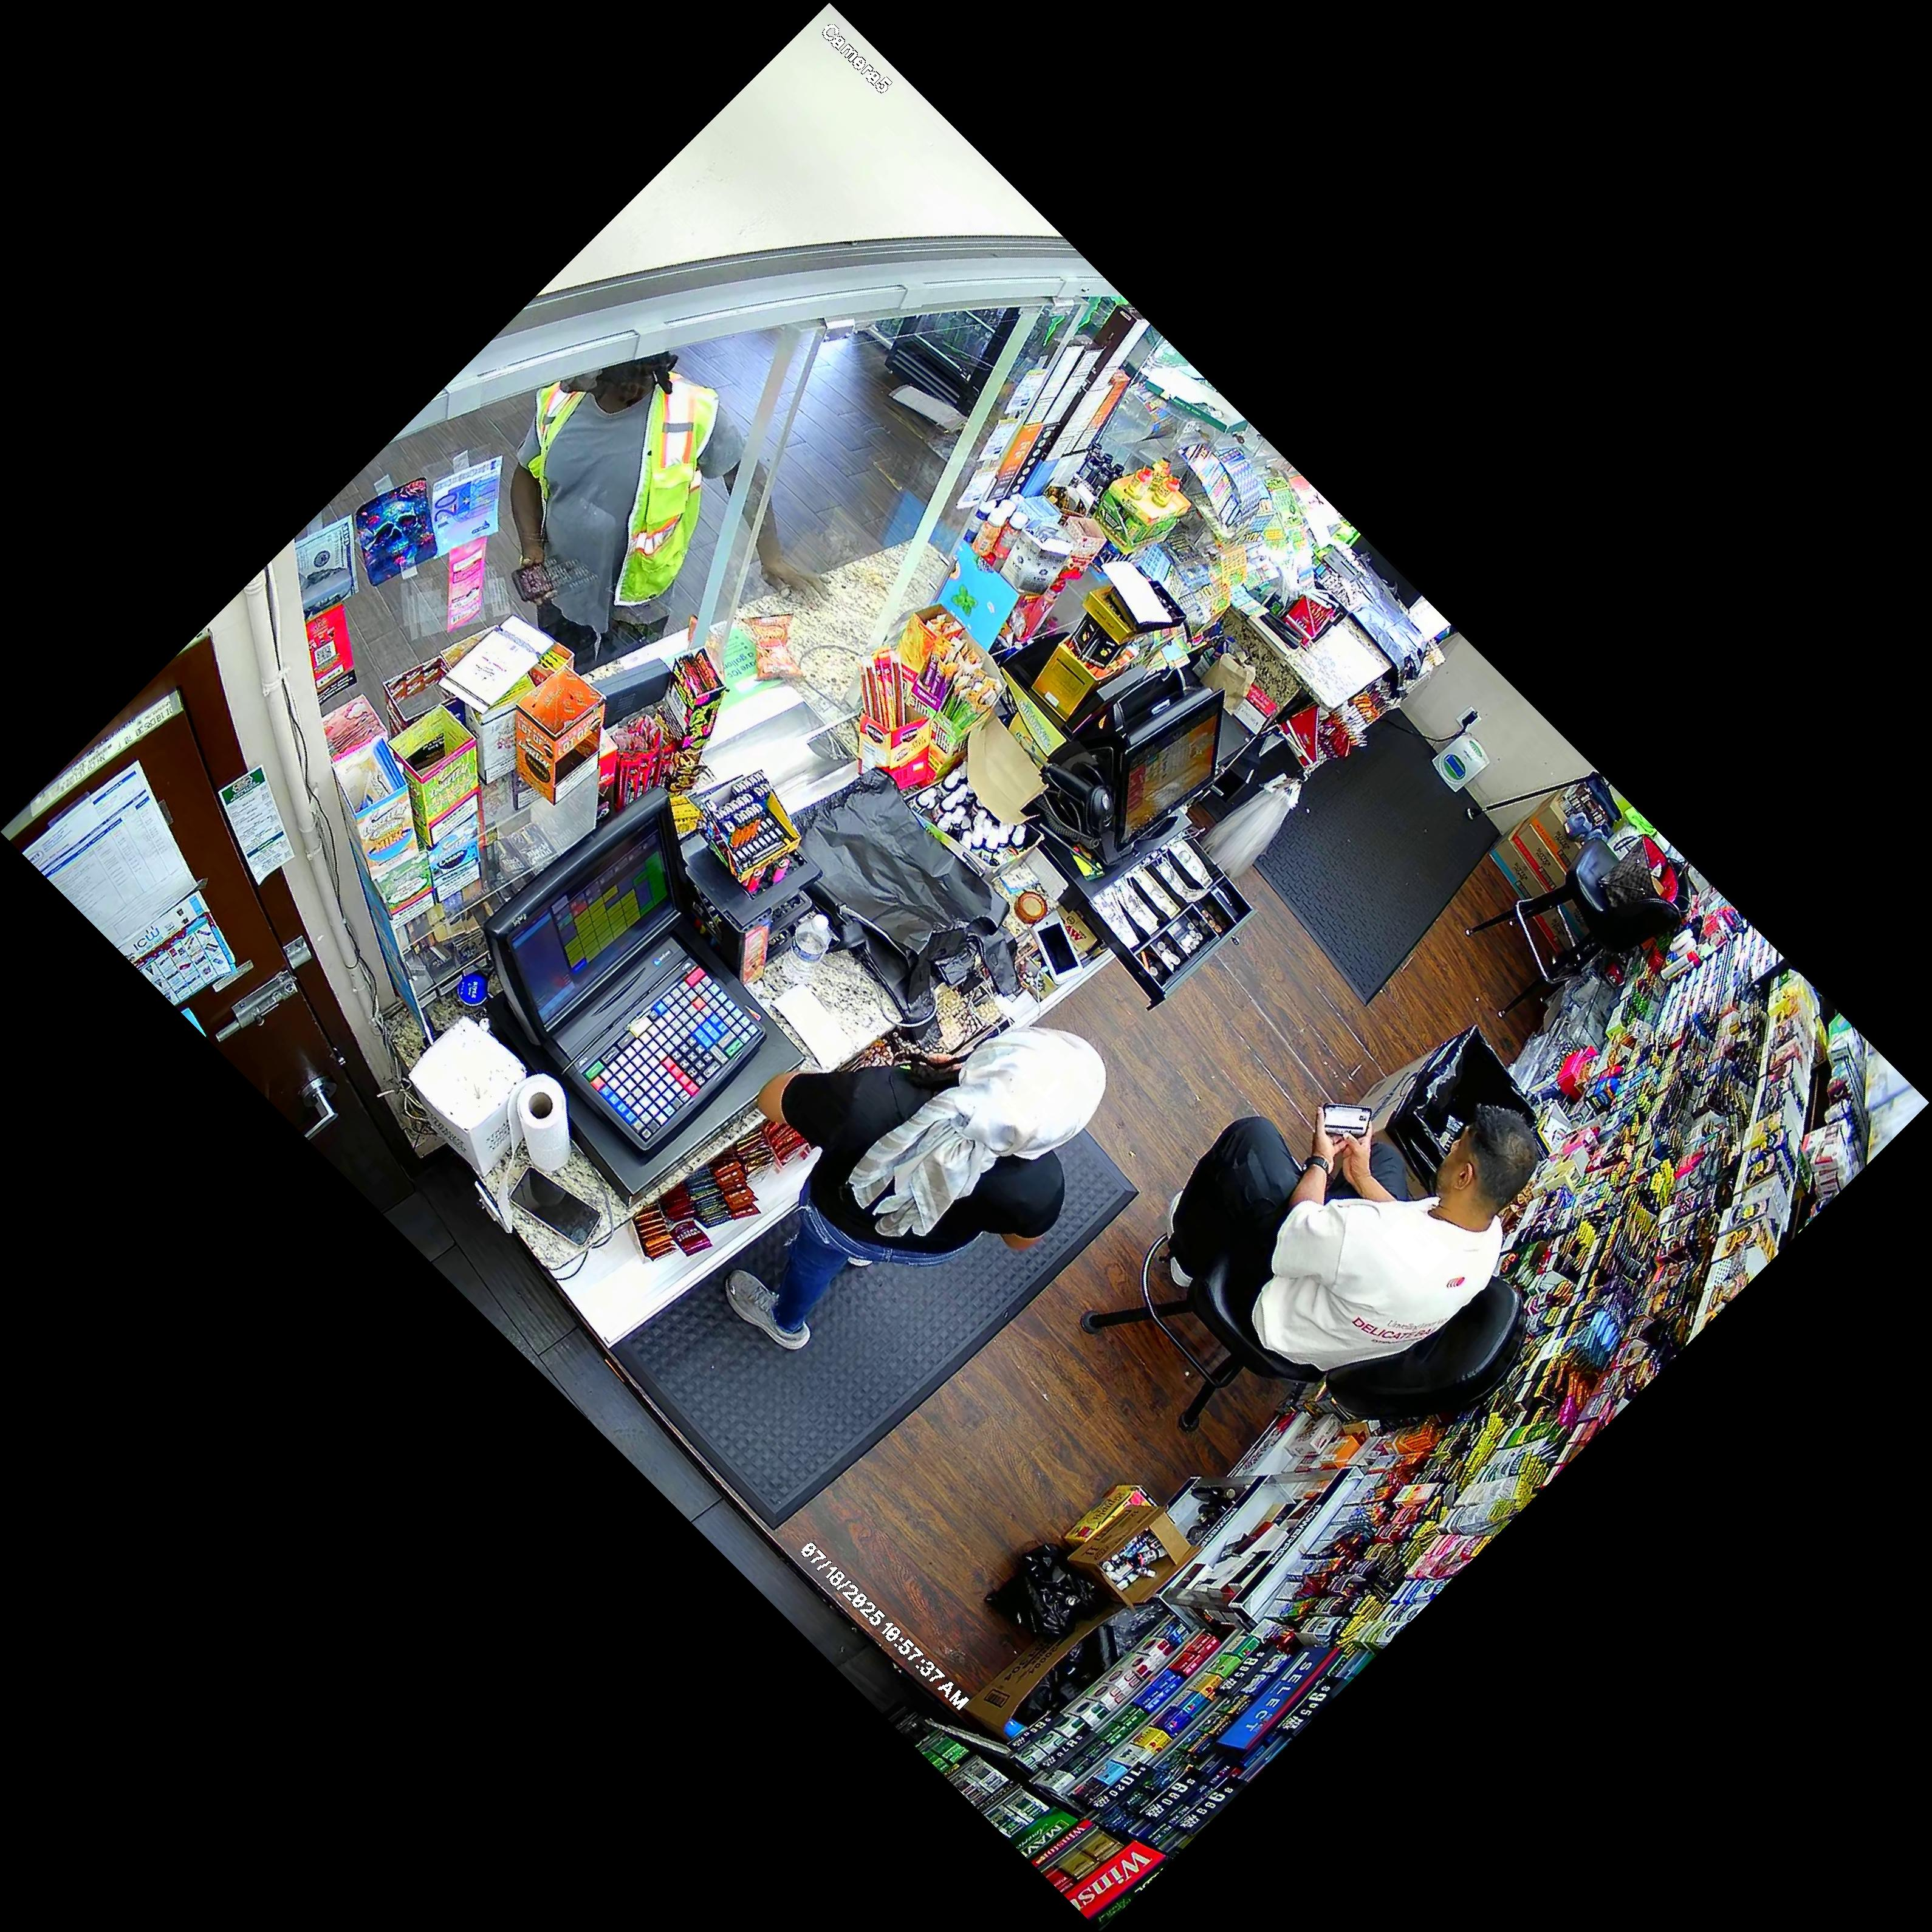phone: (1311, 1092, 1385, 1150), (504, 547, 564, 609)
